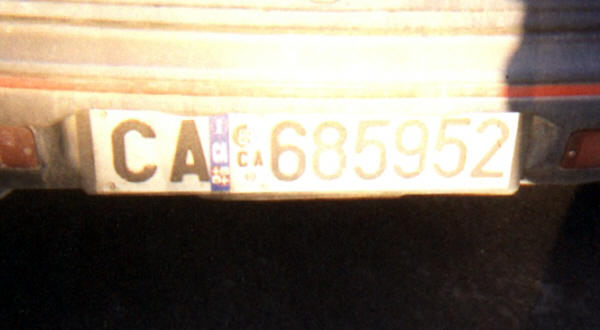license_plate: (84, 110, 523, 198)
